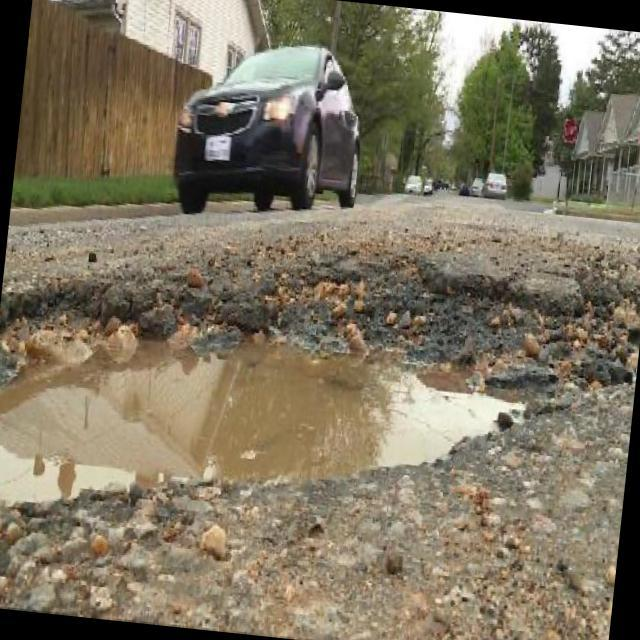Pothole: (0, 276, 640, 481)
